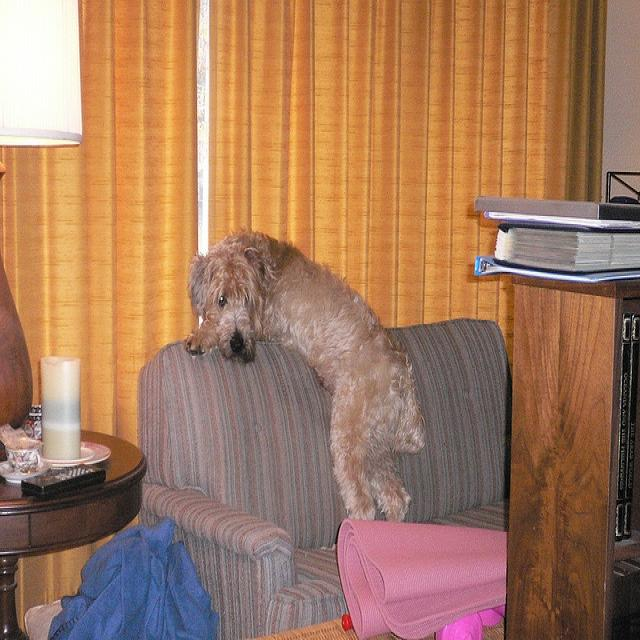dog: (183, 230, 427, 522)
